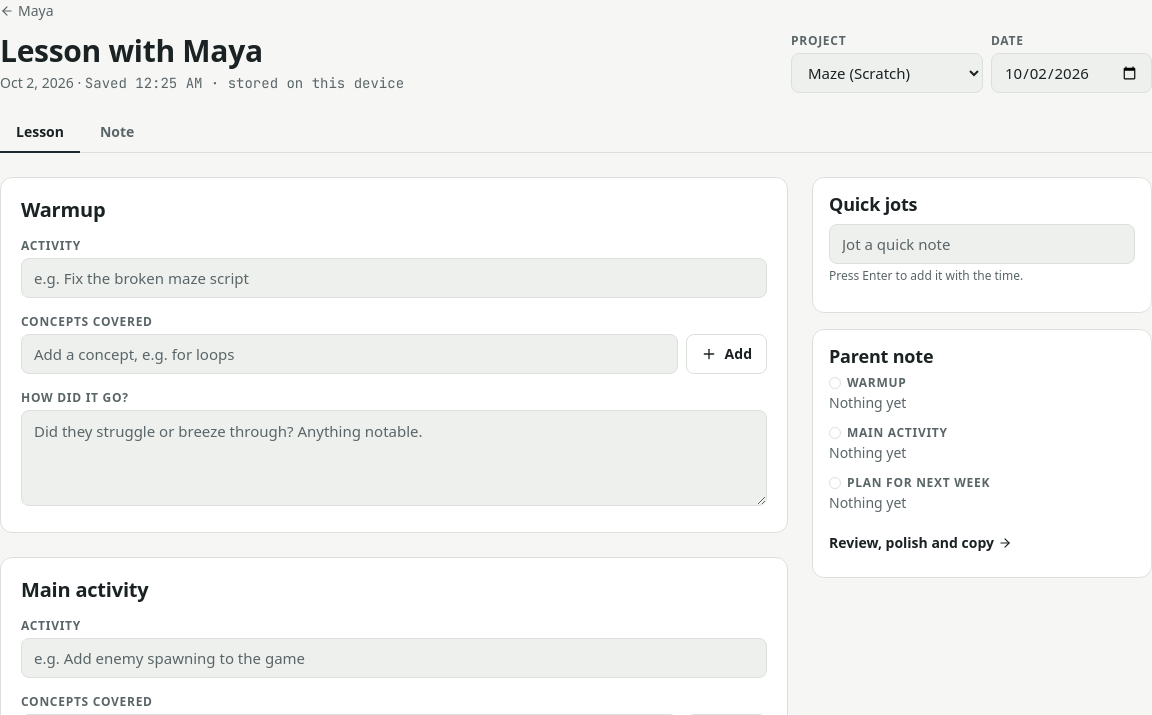
Scenario: LessonPage › sends a jot into a section and removes it from the list
The width and height of the screenshot is (1152, 715).
Type "finished fast" into the field named "Quick jot" at (982, 244), box x1=829 y1=224 x2=1135 y2=264
Then press Enter
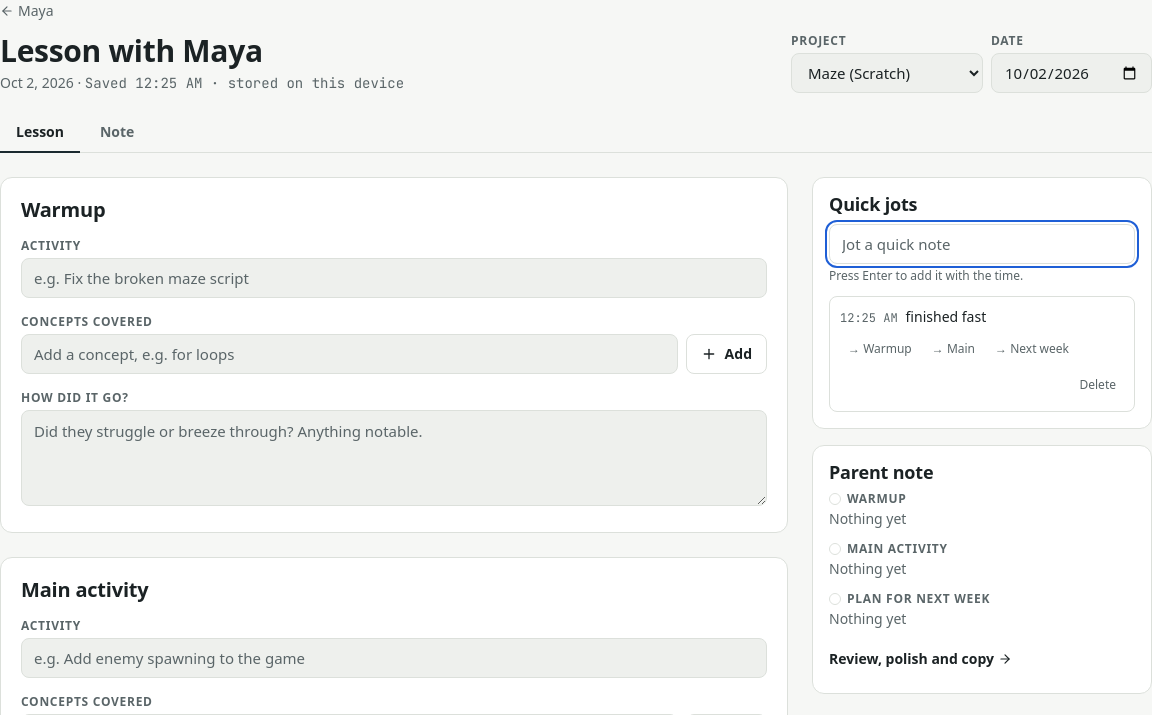
Click the button named "Send \"finished fast\" to Warmup" at (880, 349), box x1=840 y1=333 x2=920 y2=365
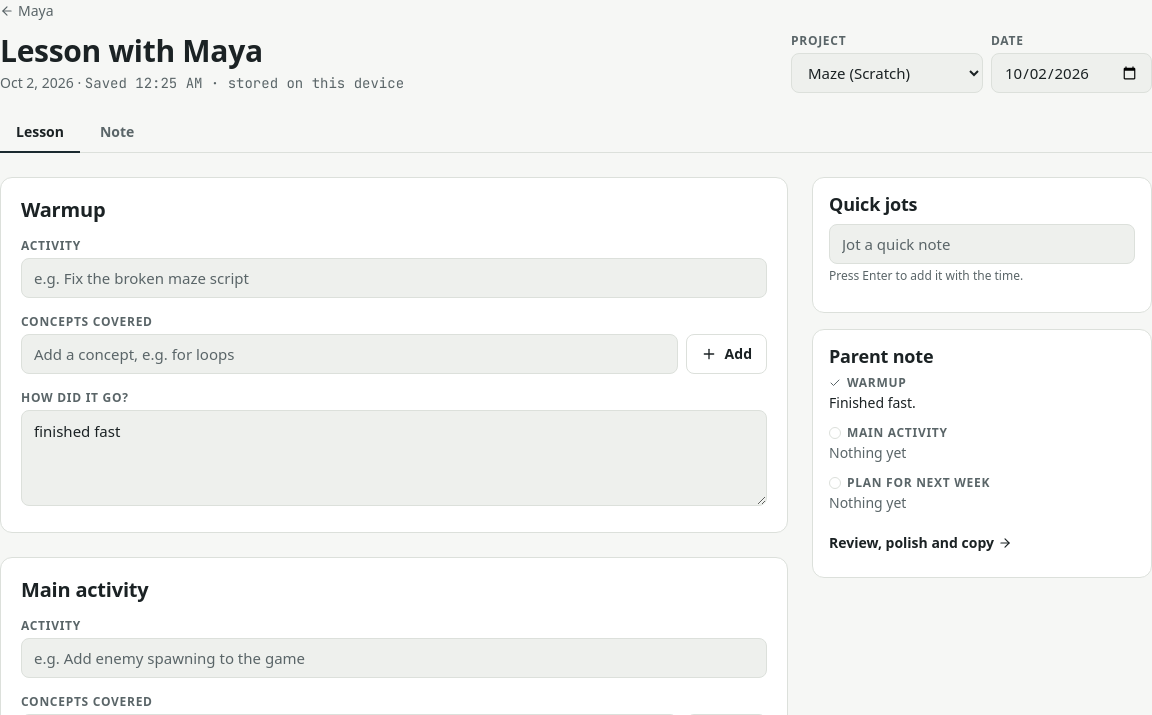
expect the text box with placeholder "Did they struggle or breeze through? Anything notable." holds "finished fast": met, box x1=21 y1=410 x2=767 y2=506
